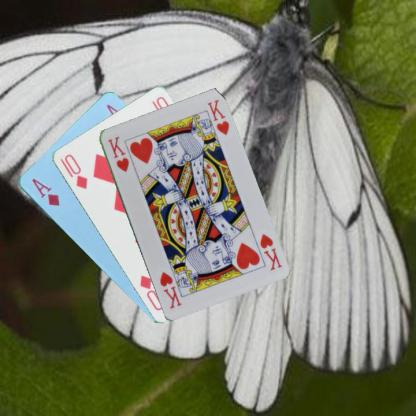10d: (57, 151, 89, 191)
Ad: (28, 176, 61, 207)
Kh: (257, 230, 283, 272), (105, 134, 130, 174)
